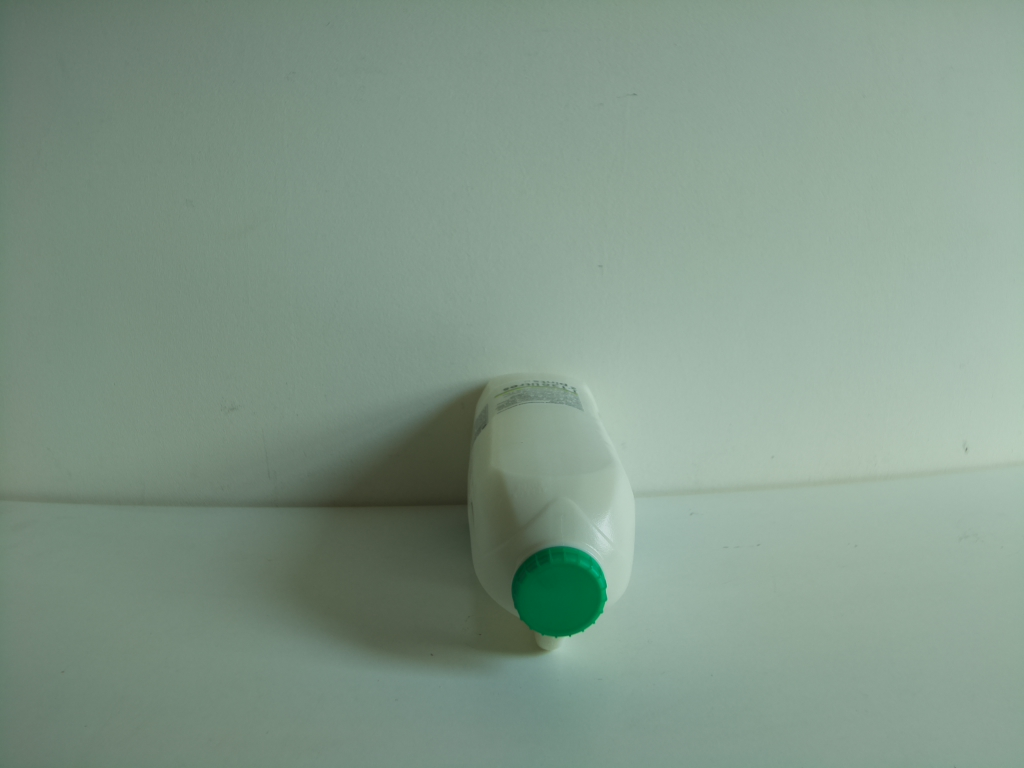milk: (459, 366, 638, 666)
